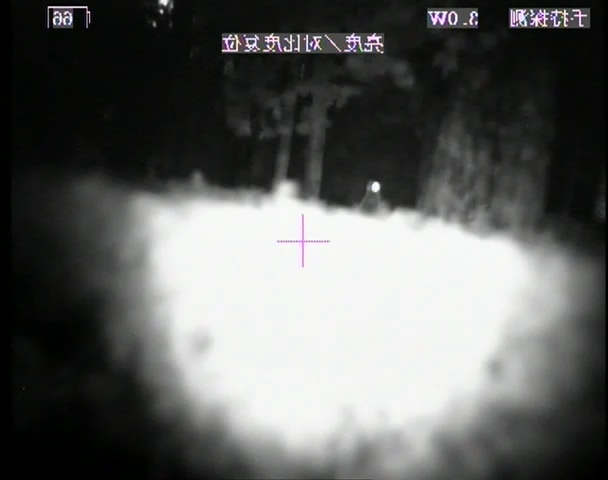my: (370, 180, 380, 192)
